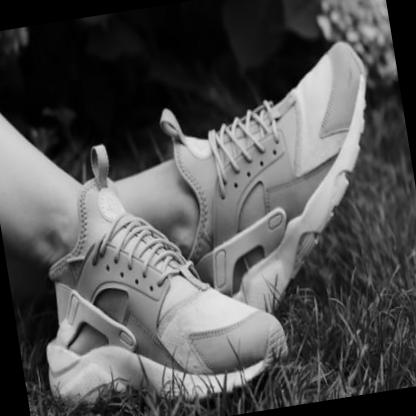ankle: (201, 170, 208, 179), (74, 260, 79, 265)
heel: (199, 223, 206, 230), (57, 340, 64, 347)
left_foot: (101, 31, 388, 276)
pinky: (343, 99, 351, 112), (254, 308, 261, 317)
right_foot: (30, 225, 288, 414)
toe: (209, 350, 221, 363), (328, 56, 335, 63)
